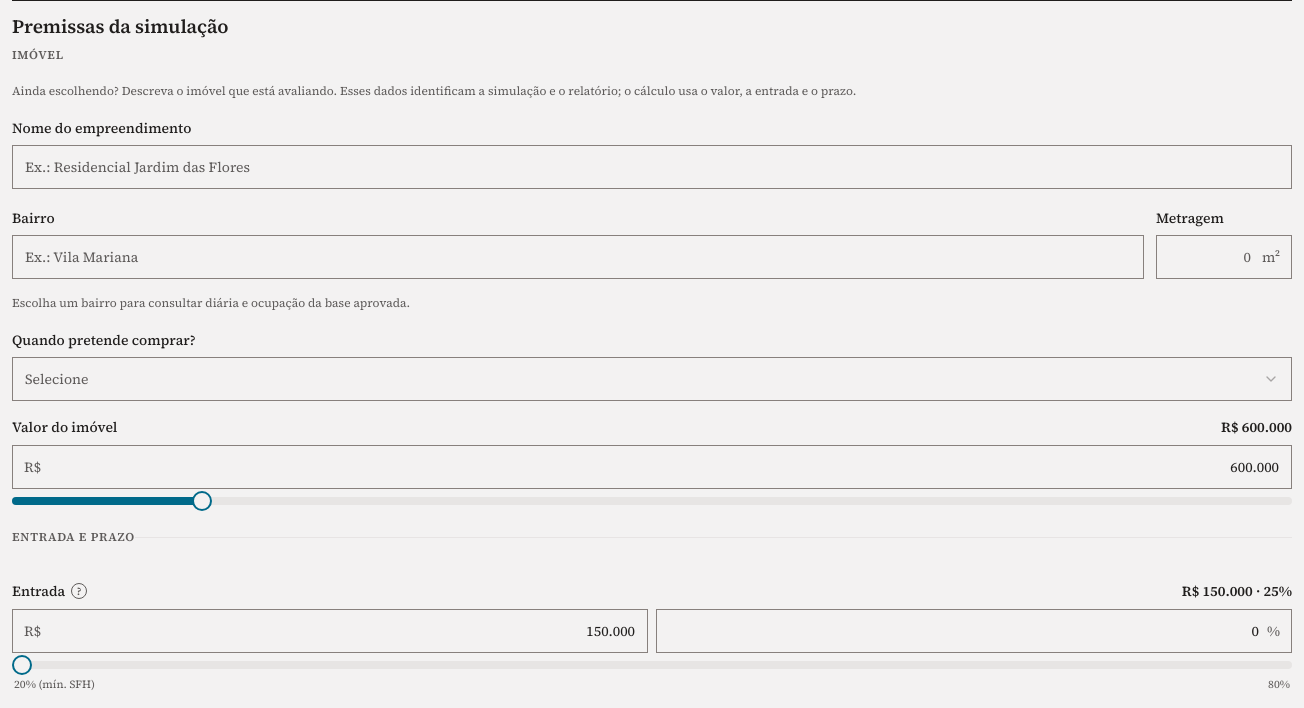
Test: SimuladorFinanciamento · imóvel em avaliação › leva os dados do imóvel para o snapshot e mostra o preço por m²
The image size is (1304, 708).
Type "  Residencial Aurora " into the field labelled "Nome do empreendimento".
click(652, 167); type("  Residencial Aurora ")  # box [12, 145, 1292, 189]
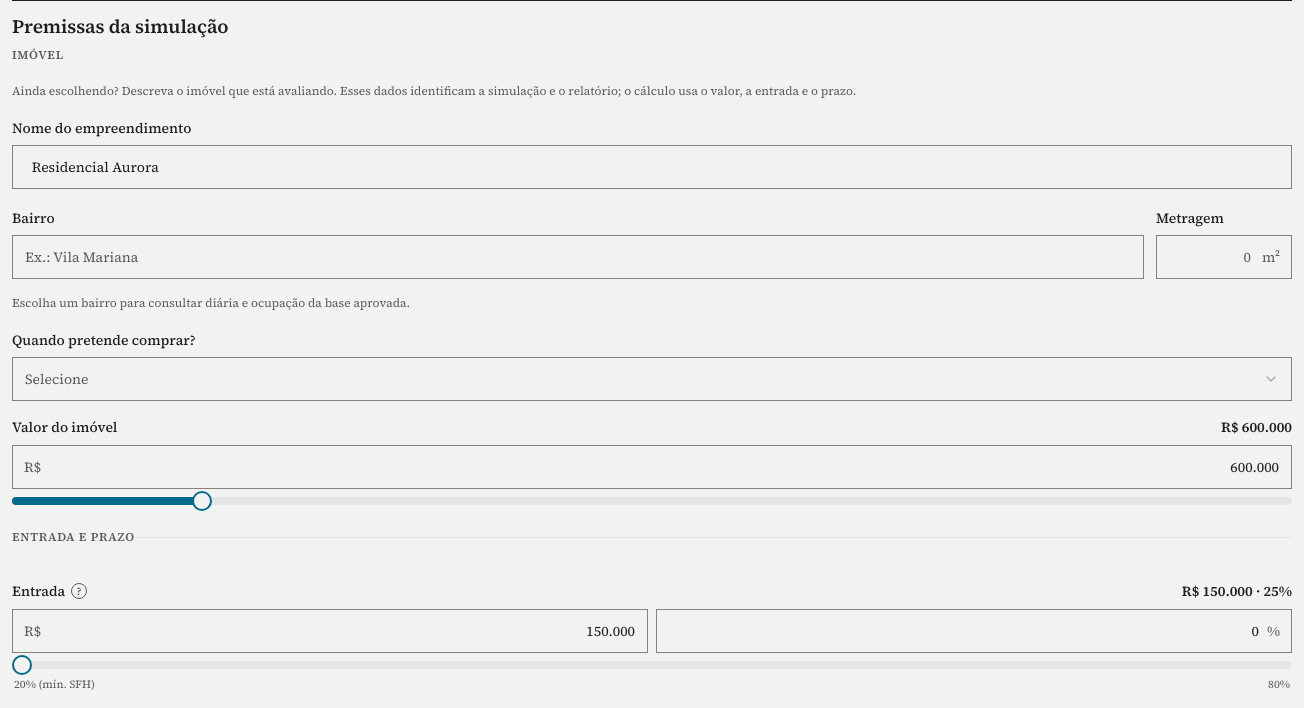
Type "Saúde" into the field labelled "Bairro".
click(578, 257); type("Saúde")  # box [12, 235, 1144, 279]
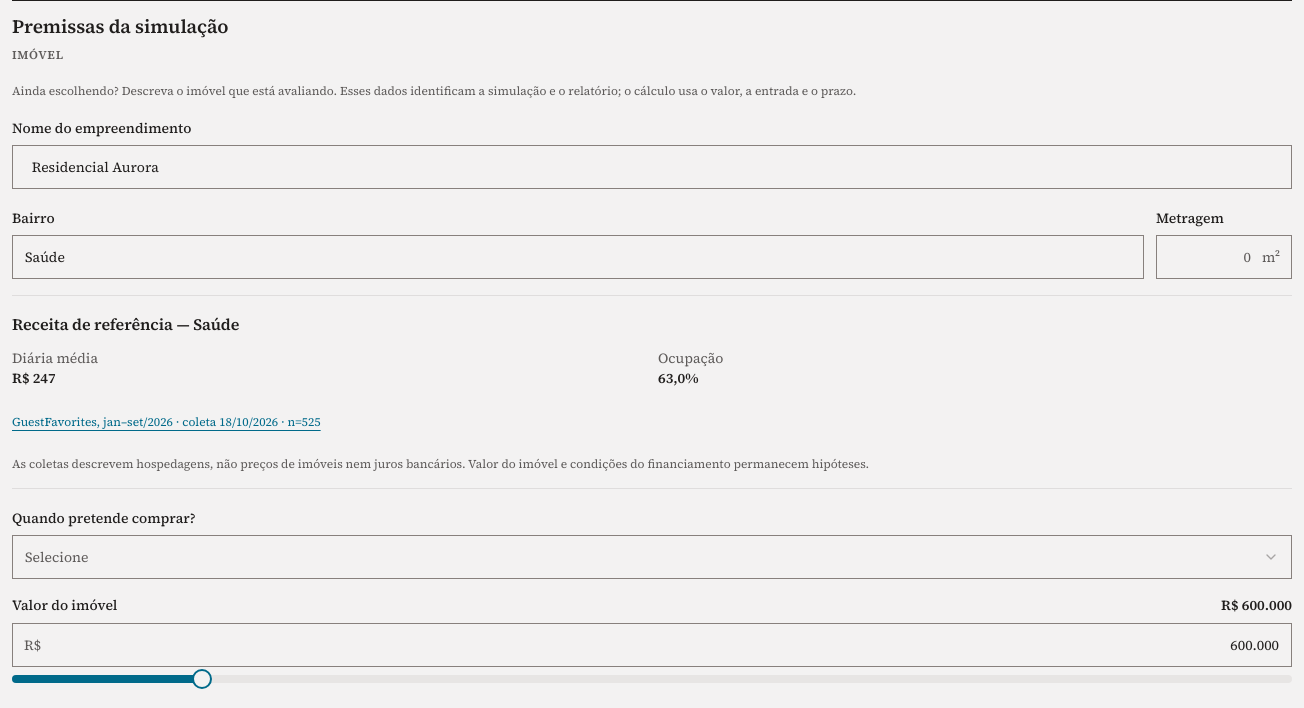
Type "30" into the field labelled "Metragem".
click(1224, 257); type("30")  # box [1156, 235, 1292, 279]
Wait 200 ms
(page scrolled)
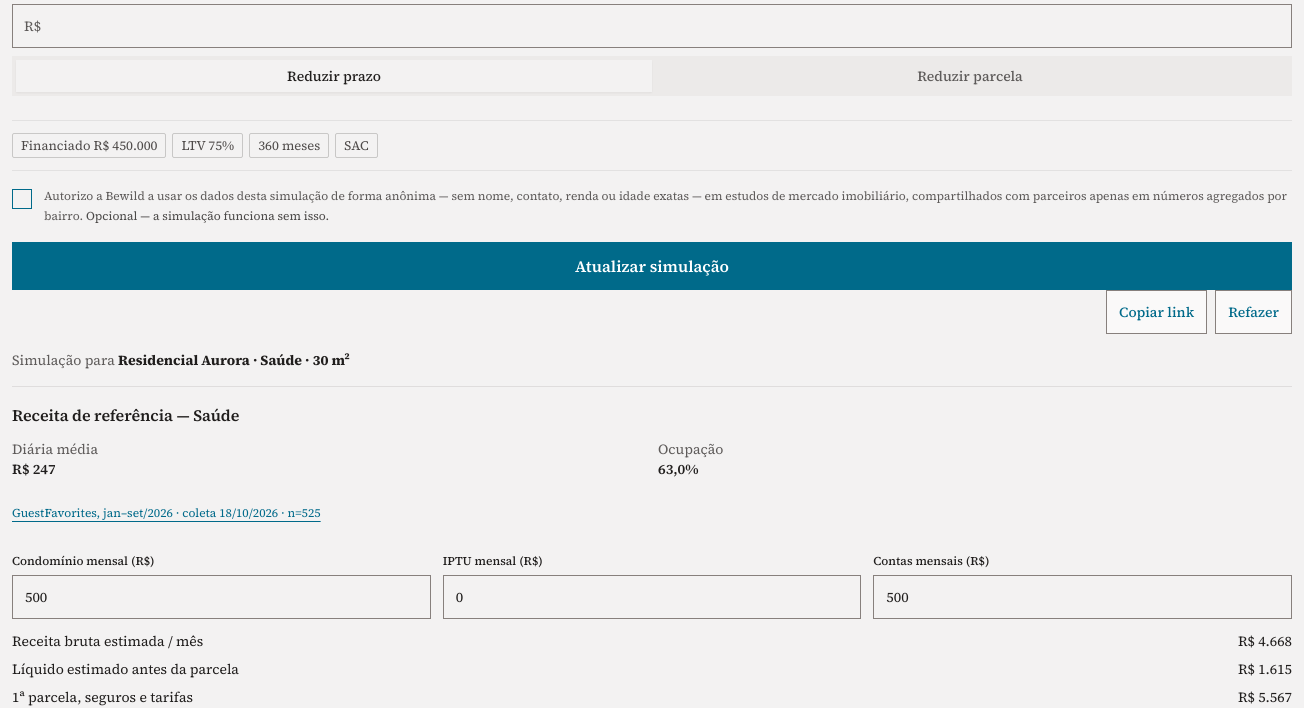
Result: the text "Simulação para Residencial Aurora · Saúde · 30 m²" is shown at [12, 350, 350, 370]
